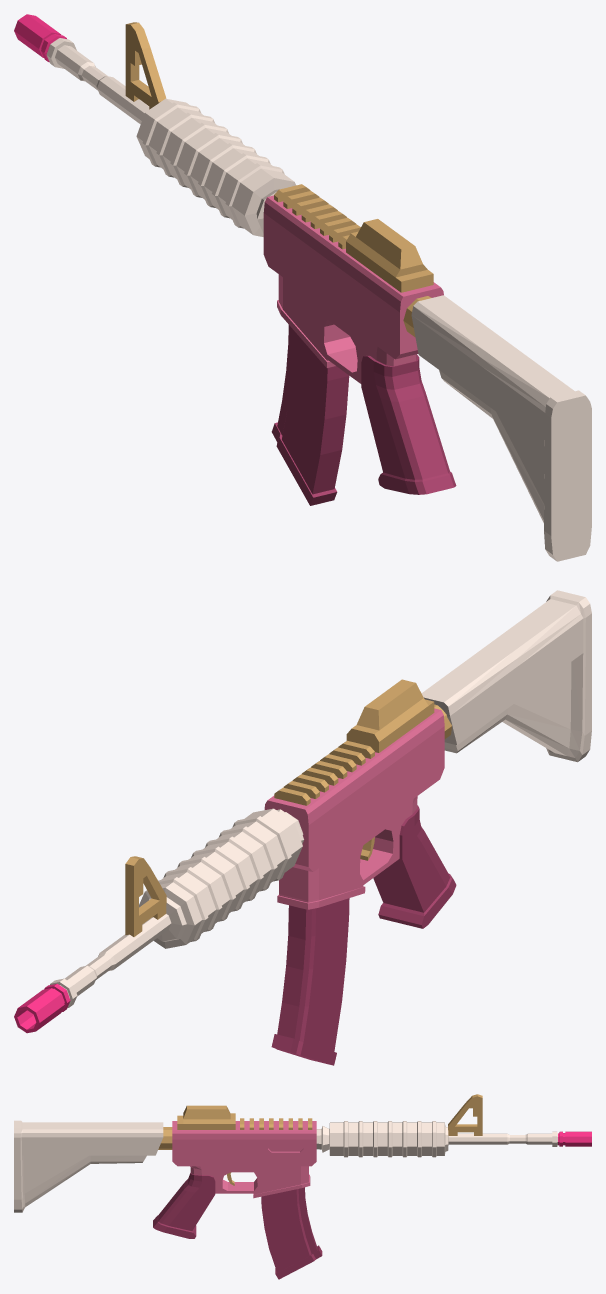
The model's file is Rifle_M4A1.obj.
The picture shows the model from 3 angles, top to bottom: view 1: azimuth 30°, elevation 25°; view 2: azimuth 150°, elevation 25°; view 3: azimuth 270°, elevation 25°; orthographic projection. The views are drawn at different scales.
Visible parts, largest first — view 1: Panel, Body, Mag, Grip, Hardware, Accent; view 2: Panel, Body, Mag, Hardware, Grip, Accent; view 3: Panel, Body, Mag, Hardware, Grip, Accent, Bolt.
Boxes of the visible parts, <box> form: Panel: <box>46,38,591,561</box>; Body: <box>263,195,443,383</box>; Mag: <box>271,325,349,505</box>; Grip: <box>361,354,456,494</box>; Hardware: <box>125,22,433,292</box>; Accent: <box>14,14,66,62</box>; Panel: <box>50,590,591,1007</box>; Body: <box>264,708,444,909</box>; Mag: <box>271,898,349,1065</box>; Hardware: <box>125,679,434,936</box>; Grip: <box>373,805,456,928</box>; Accent: <box>14,983,70,1033</box>; Panel: <box>14,1120,557,1212</box>; Body: <box>172,1121,316,1198</box>; Mag: <box>261,1187,322,1279</box>; Hardware: <box>177,1094,482,1185</box>; Grip: <box>153,1172,215,1238</box>; Accent: <box>558,1131,591,1146</box>; Bolt: <box>158,1127,172,1149</box>.
Size of the model in its own units: 0.2279 by 1.18 by 3.4.
